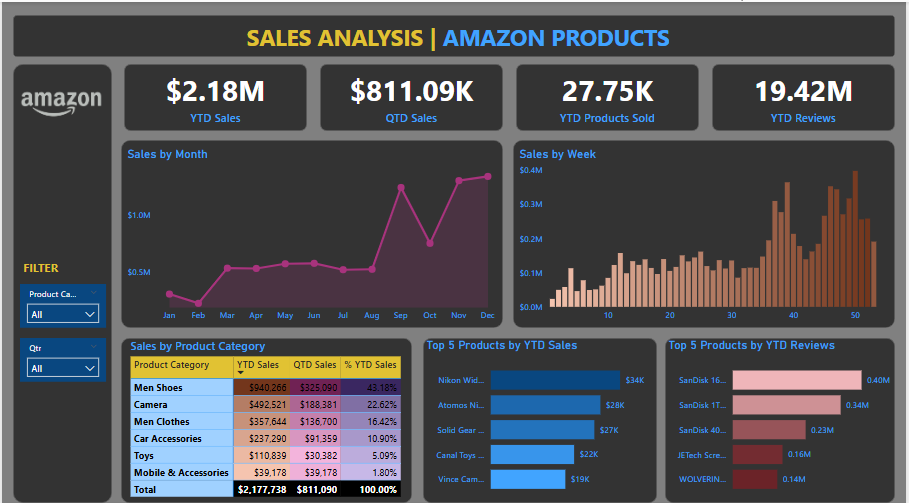

The page's visual inventory and layout, read from the dashboard file:
{"tool":"powerbi","page":{"name":"Page 1","canvas":[1280,720],"ordinal":0},"visuals":[{"type":"shape","box":[15.6,18.4,1250.1,59.5],"z":0},{"type":"shape","box":[15.6,87.9,140.3,622.2],"z":1000},{"type":"textbox","box":[341.6,22.7,618,55.3],"z":2000},{"type":"shape","box":[172.9,87.9,259.4,95],"z":3000},{"type":"card","fields":{"Values":["Amazon_Data.YTD Sales"]},"box":[172.9,87.9,259.4,95],"z":4000,"group":"g1"},{"type":"shape","box":[450.7,87.9,259.4,95],"z":4000},{"type":"shape","box":[728.5,87.9,259.4,95],"z":5000},{"type":"shape","box":[1006.3,87.9,259.4,95],"z":6000},{"type":"card","fields":{"Values":["Amazon_Data.QTD Sales"]},"box":[450.7,87.9,259.4,95],"z":7000,"group":"g1"},{"type":"shape","box":[168.7,195.6,541.4,266.5],"z":7000},{"type":"card","fields":{"Values":["Amazon_Data.YTD Products Sold"]},"box":[728.5,87.9,259.4,95],"z":8000,"group":"g1"},{"type":"group","id":"g1","title":"Group 1","box":[172.9,87.9,1092.8,95],"z":8000},{"type":"areaChart","title":"Sales by Month ","fields":{"Category":["Date Table.Month Name"],"Y":["Sum(Amazon_Data.Price(Dollar))"]},"box":[172.9,205.5,537.2,256.5],"z":9000},{"type":"card","fields":{"Values":["Amazon_Data.YTD Reviews"]},"box":[1006.3,87.9,259.4,95],"z":10000,"group":"g1"},{"type":"shape","box":[724.3,195.6,541.4,266.5],"z":10000},{"type":"columnChart","title":"Sales by Week","fields":{"Category":["Date Table.Week"],"Y":["Sum(Amazon_Data.Price(Dollar))"]},"box":[728.5,205.5,537.2,256.5],"z":11000},{"type":"shape","box":[168.7,476.2,412.4,233.9],"z":12000},{"type":"pivotTable","title":"Sales by Product Category","fields":{"Rows":["Amazon_Data.Product Category"],"Values":["Amazon_Data.YTD Sales1","Amazon_Data.QTD Sales","Amazon_Data.YTD Sales"]},"box":[177.2,476.2,419.5,233.9],"z":13000},{"type":"shape","box":[596.7,476.2,331.7,233.9],"z":14000},{"type":"shape","box":[939.7,476.2,326,233.9],"z":15000},{"type":"clusteredBarChart","title":"Top  5 Products by YTD Sales","fields":{"Category":["Amazon_Data.Product Description"],"Y":["Amazon_Data.YTD Sales"]},"box":[596.7,476.2,331.7,233.9],"z":16000},{"type":"clusteredBarChart","title":"Top  5 Products by YTD Reviews","fields":{"Category":["Amazon_Data.Product Description"],"Y":["Amazon_Data.YTD Reviews"]},"box":[939.7,476.2,331.7,233.9],"z":17000},{"type":"slicer","fields":{"Values":["Amazon_Data.Product Category"]},"box":[25.5,399.7,121.9,62.4],"z":18000},{"type":"slicer","fields":{"Values":["Date Table.Qtr"]},"box":[25.5,476.2,121.9,62.4],"z":19000},{"type":"image","box":[15.6,90.7,140.3,114.8],"z":20000},{"type":"textbox","box":[25.5,360,121.9,55.3],"z":21000}]}

Visuals, with their boxes in screenshot pixels (x1, y1, x2, y2), scaled from the page's 1280x720 canvas onto the 909x503 screenshot:
shape: left=11, top=13, right=899, bottom=54
shape: left=11, top=61, right=111, bottom=496
textbox: left=243, top=16, right=681, bottom=54
shape: left=123, top=61, right=307, bottom=128
card - Amazon_Data.YTD Sales: left=123, top=61, right=307, bottom=128
shape: left=320, top=61, right=504, bottom=128
shape: left=517, top=61, right=702, bottom=128
shape: left=715, top=61, right=899, bottom=128
card - Amazon_Data.QTD Sales: left=320, top=61, right=504, bottom=128
shape: left=120, top=137, right=504, bottom=323
card - Amazon_Data.YTD Products Sold: left=517, top=61, right=702, bottom=128
"Group 1" group: left=123, top=61, right=899, bottom=128
"Sales by Month " areaChart: left=123, top=144, right=504, bottom=323
card - Amazon_Data.YTD Reviews: left=715, top=61, right=899, bottom=128
shape: left=514, top=137, right=899, bottom=323
"Sales by Week" columnChart: left=517, top=144, right=899, bottom=323
shape: left=120, top=333, right=413, bottom=496
"Sales by Product Category" pivotTable: left=126, top=333, right=424, bottom=496
shape: left=424, top=333, right=659, bottom=496
shape: left=667, top=333, right=899, bottom=496
"Top  5 Products by YTD Sales" clusteredBarChart: left=424, top=333, right=659, bottom=496
"Top  5 Products by YTD Reviews" clusteredBarChart: left=667, top=333, right=903, bottom=496
slicer - Amazon_Data.Product Category: left=18, top=279, right=105, bottom=323
slicer - Date Table.Qtr: left=18, top=333, right=105, bottom=376
image: left=11, top=63, right=111, bottom=144
textbox: left=18, top=252, right=105, bottom=290
